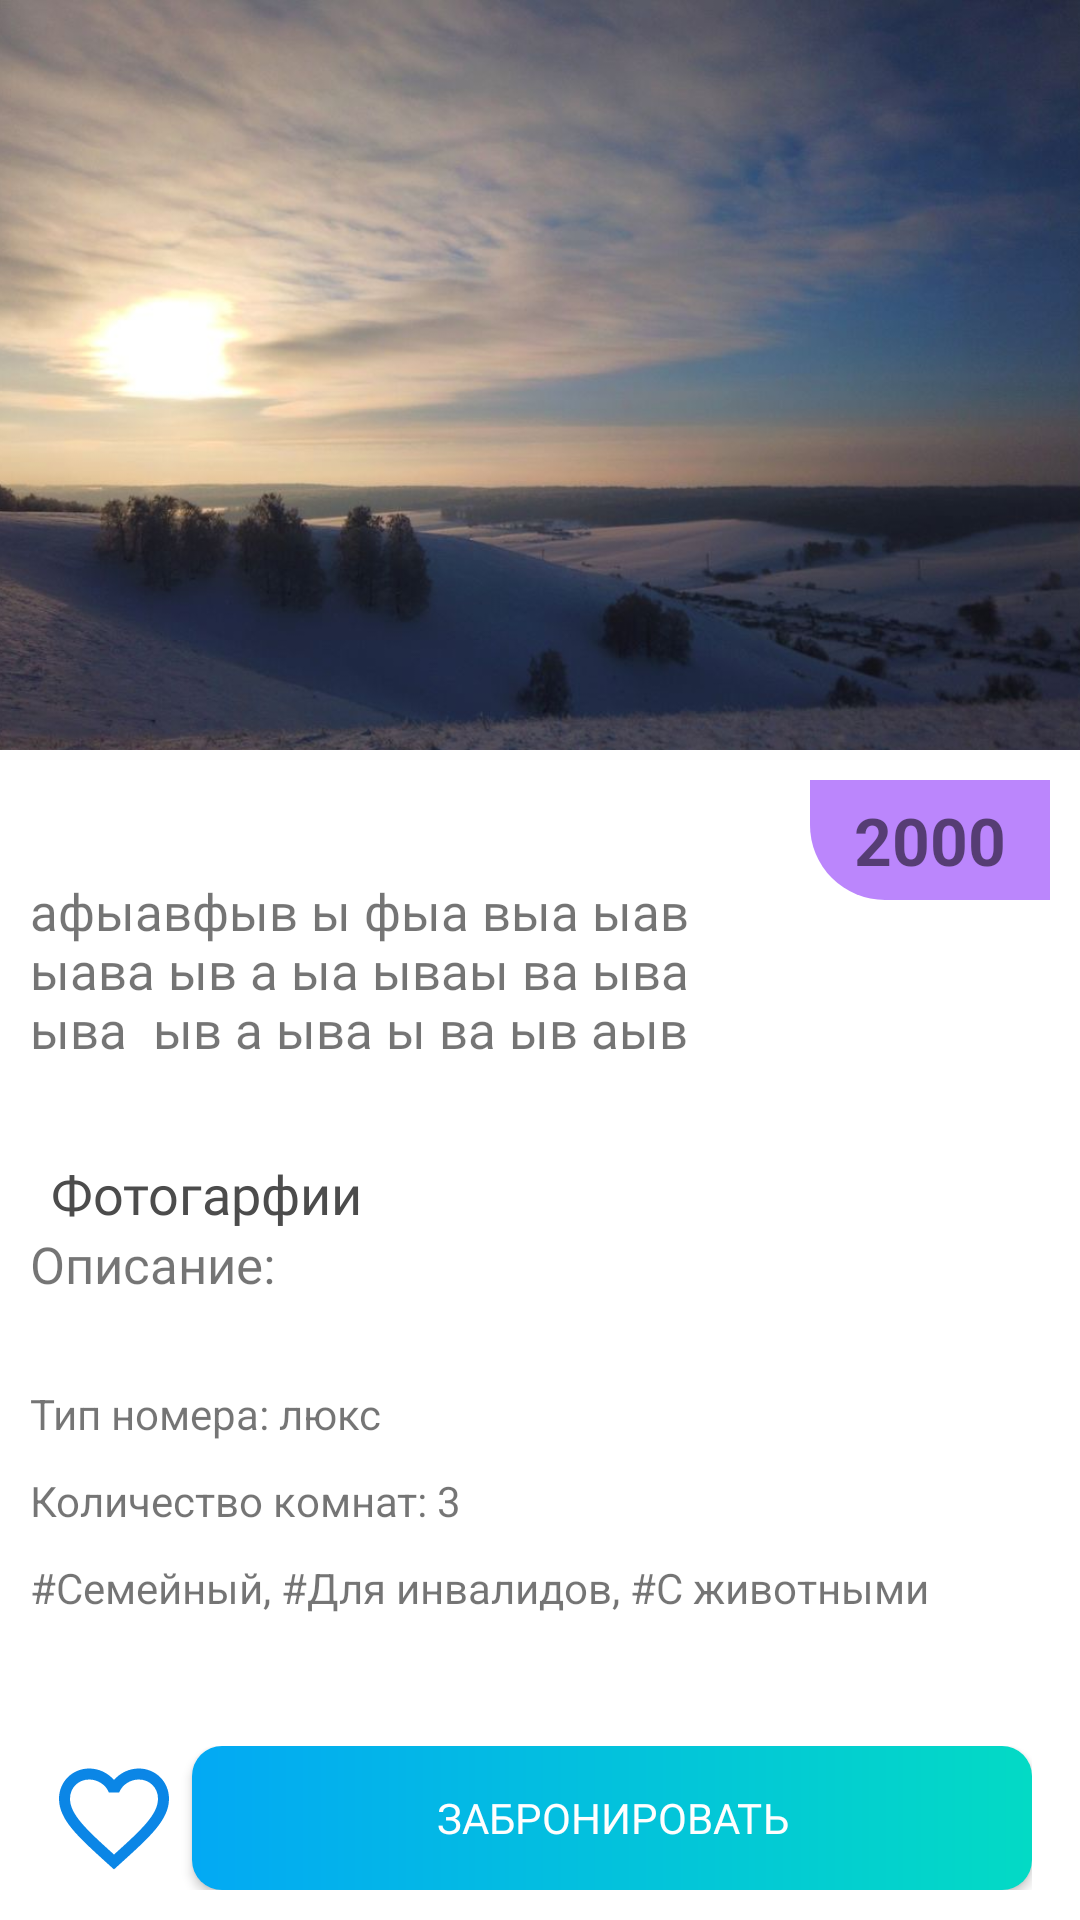

Named icons in this screenshot (1080 x 1920) and their centers, (x=x, y=y):
add remove from favorite: (x=114, y=1818)
